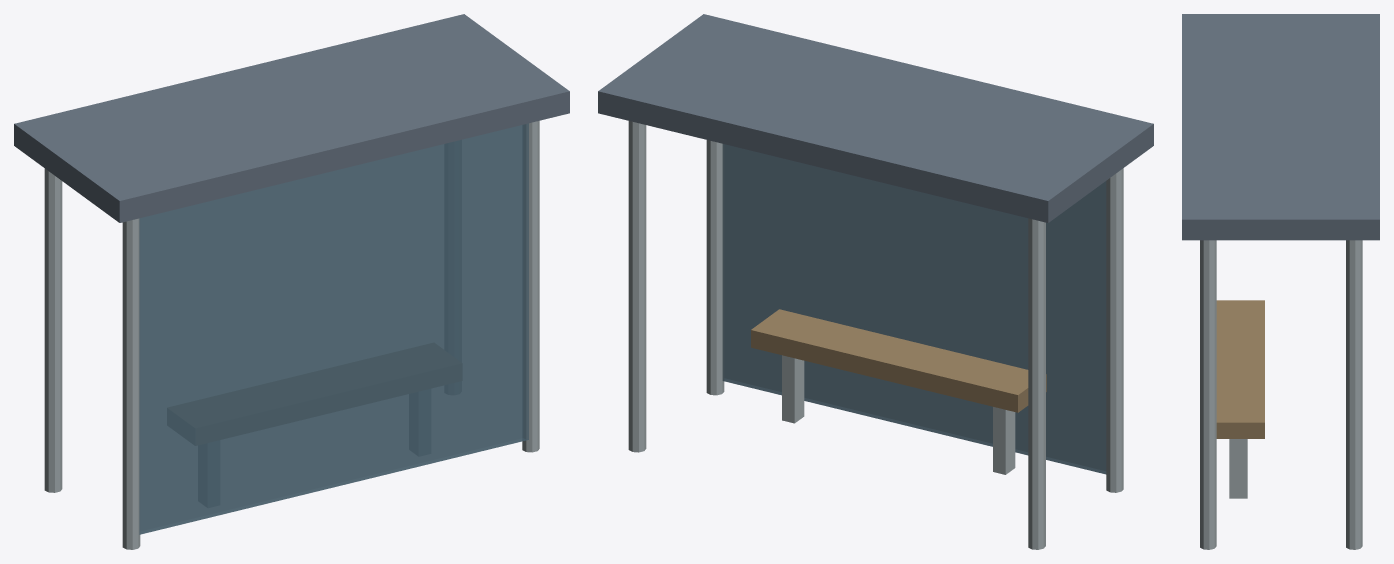
Rendered from bus_shelter.glb.
The picture shows the model from 3 angles, left to right: view 1: azimuth 30°, elevation 25°; view 2: azimuth 150°, elevation 25°; view 3: azimuth 270°, elevation 25°; orthographic projection. The views are drawn at different scales.
Visible parts, largest first — view 1: Back_Glass, Canopy, Frame_-1.42_-0.48, Frame_-1.42_0.48, Frame_1.42_0.48; view 2: Back_Glass, Canopy, Bench, Frame_1.42_-0.48, Frame_-1.42_-0.48, Frame_-1.42_0.48, Frame_1.42_0.48, Leg_-0.75, Leg_0.75; view 3: Canopy, Bench, Frame_1.42_-0.48, Frame_1.42_0.48, Leg_0.75.
Boxes of the visible parts, bbox=[...] form: Back_Glass: bbox=[139, 123, 528, 534]; Canopy: bbox=[14, 14, 569, 222]; Frame_-1.42_-0.48: bbox=[44, 168, 62, 492]; Frame_-1.42_0.48: bbox=[122, 218, 140, 549]; Frame_1.42_0.48: bbox=[522, 121, 539, 452]; Back_Glass: bbox=[722, 144, 1106, 474]; Canopy: bbox=[598, 14, 1153, 222]; Bench: bbox=[751, 309, 1046, 412]; Frame_1.42_-0.48: bbox=[628, 121, 646, 452]; Frame_-1.42_-0.48: bbox=[1028, 218, 1045, 549]; Frame_-1.42_0.48: bbox=[1106, 168, 1123, 492]; Frame_1.42_0.48: bbox=[706, 140, 724, 395]; Leg_-0.75: bbox=[993, 407, 1015, 474]; Leg_0.75: bbox=[782, 355, 804, 423]; Canopy: bbox=[1182, 14, 1379, 240]; Bench: bbox=[1216, 300, 1264, 438]; Frame_1.42_-0.48: bbox=[1346, 240, 1362, 549]; Frame_1.42_0.48: bbox=[1200, 240, 1216, 549]; Leg_0.75: bbox=[1229, 439, 1247, 498].
Bounding box in the file's own units: 3.2 × 2.45 × 1.3.
